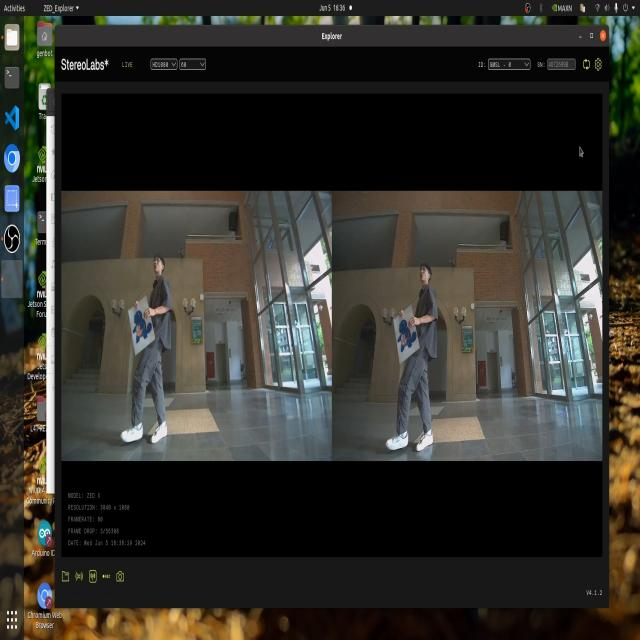blue: (398, 313, 421, 358), (132, 308, 154, 344)
